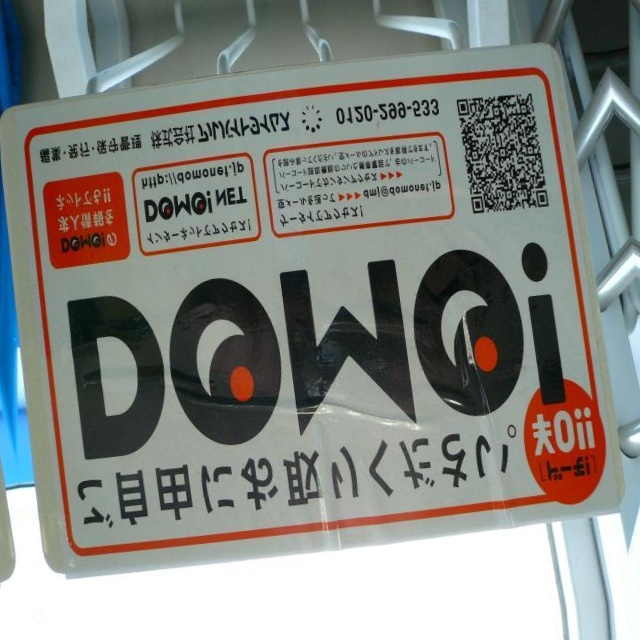qr-code: (457, 90, 549, 217)
